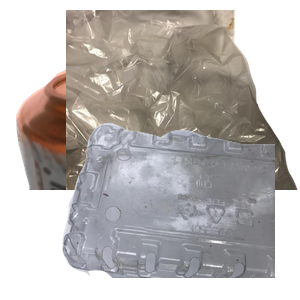glass: (74, 120, 244, 300)
metal: (13, 61, 240, 241)
plastic: (60, 120, 300, 300)
trash: (66, 10, 300, 190)
